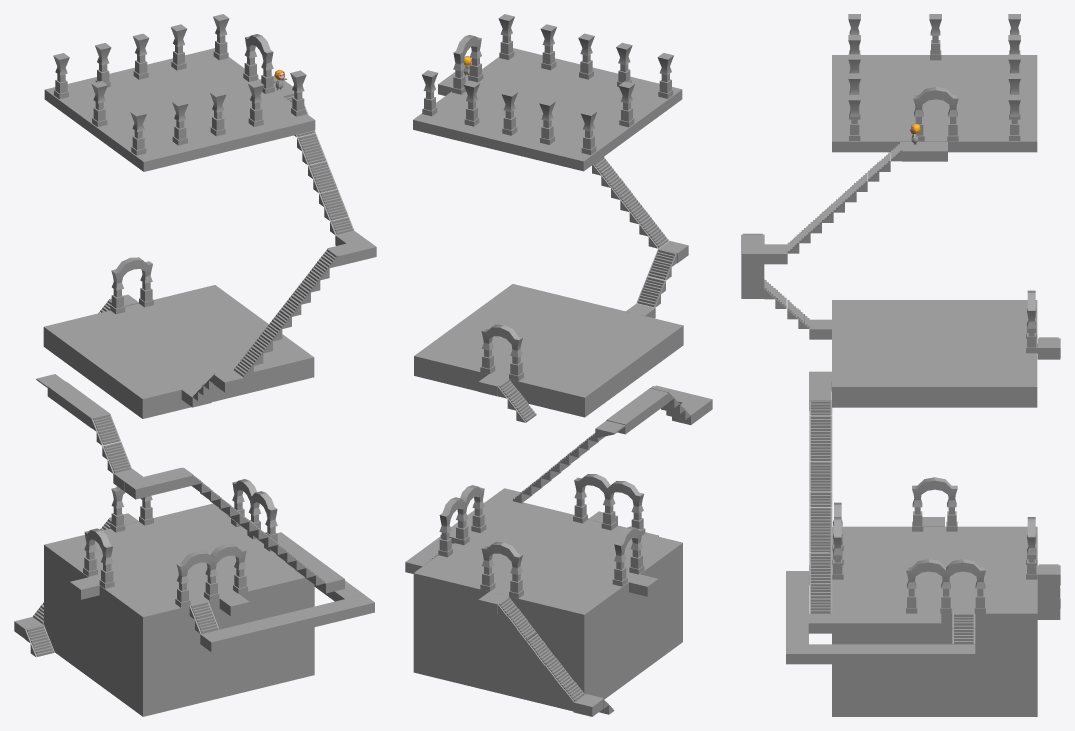
The model's file is Level_2.fbx.
The picture shows the model from 3 angles, left to right: view 1: azimuth 30°, elevation 25°; view 2: azimuth 150°, elevation 25°; view 3: azimuth 270°, elevation 25°; orthographic projection. The views are drawn at different scales.
Parts seen in each view (by area): view 1: level_1:pCube3, level_1:pCube5, level_1:pCube6, level_25:pasted__pasted__pasted__pCube2, pasted__pasted__group15_pasted__group12_pasted__pasted__pCub (×2), level_1:pasted__pCube4 (×2), pasted__group15_pasted__group12_pasted__pasted__pCube6, pasted__pasted__pasted__group15_pasted__group12_pasted__past (×2), pasted__group15_pasted__group12_pasted__pasted__pCube5, level_1:pasted__pCube6, level_1:pasted__pasted__pasted__pCube2; view 2: level_1:pCube3, level_1:pCube5, level_1:pCube6, pasted__pasted__pasted__group15_pasted__group12_pasted__past (×2), pasted__pasted__group15_pasted__group12_pasted__pasted__pCub (×2), pasted__group15_pasted__group12_pasted__pasted__pCube6, pasted__group15_pasted__group12_pasted__pasted__pCube5, level_1:pasted__pCube6, pasted__pasted__pCube6 (×2), pasted__pasted__pCube5 (×2), level_1:pasted__pasted__pasted__pCube2, level_24:pasted__pasted__pasted__pCube2 (+10 smaller); view 3: level_1:pCube3, level_1:pCube5, level_1:pCube6, level_1:pasted__pasted__pasted__pCube2 (×2), level_24:pasted__pasted__pasted__pCube2, level_25:pasted__pasted__pasted__pCube2, pasted__group15_pasted__group12_pasted__pasted__pCube5, pasted__pasted__pasted__group15_pasted__group12_pasted__past (×2), pasted__pasted__group15_pasted__group12_pasted__pasted__pCub (×2), level_1:pasted__pCube4 (×2), pasted__group15_pasted__group12_pasted__pasted__pCube6, pasted__pCube4.
Part boxes in pixels (x1,y1,x2,y2): level_1:pCube3: (44, 503, 314, 716); level_1:pCube5: (43, 285, 314, 418); level_1:pCube6: (44, 48, 315, 171); level_25:pasted__pasted__pasted__pCube2: (200, 594, 374, 652); pasted__pasted__group15_pasted__group12_pasted__pasted__pCub (×2): (110, 34, 274, 314); level_1:pasted__pCube4 (×2): (124, 239, 376, 499); pasted__group15_pasted__group12_pasted__pasted__pCube6: (175, 544, 247, 607); pasted__pasted__pasted__group15_pasted__group12_pasted__past (×2): (83, 486, 153, 588); pasted__group15_pasted__group12_pasted__pasted__pCube5: (231, 479, 277, 551); level_1:pasted__pCube6: (47, 381, 109, 428); level_1:pasted__pasted__pasted__pCube2: (277, 532, 344, 593); level_1:pCube3: (413, 501, 682, 711); level_1:pCube5: (414, 284, 683, 417); level_1:pCube6: (413, 48, 682, 171); pasted__pasted__pasted__group15_pasted__group12_pasted__past (×2): (480, 526, 644, 598); pasted__pasted__group15_pasted__group12_pasted__pasted__pCub (×2): (452, 35, 523, 381); pasted__group15_pasted__group12_pasted__pasted__pCube6: (573, 474, 645, 535); pasted__group15_pasted__group12_pasted__pasted__pCube5: (438, 485, 486, 557); level_1:pasted__pCube6: (606, 388, 668, 434); pasted__pasted__pCube6 (×2): (619, 53, 673, 127); pasted__pasted__pCube5 (×2): (501, 89, 596, 154); level_1:pasted__pasted__pasted__pCube2: (440, 488, 523, 543); level_24:pasted__pasted__pasted__pCube2: (405, 536, 440, 573); level_1:pCube3: (832, 526, 1037, 716); level_1:pCube5: (832, 300, 1037, 407); level_1:pCube6: (832, 55, 1037, 152); level_1:pasted__pasted__pasted__pCube2 (×2): (808, 142, 947, 633); level_24:pasted__pasted__pasted__pCube2: (809, 644, 975, 664); level_25:pasted__pasted__pasted__pCube2: (786, 571, 808, 664); pasted__group15_pasted__group12_pasted__pasted__pCube5: (906, 559, 985, 613); pasted__pasted__pasted__group15_pasted__group12_pasted__past (×2): (912, 477, 1037, 579); pasted__pasted__group15_pasted__group12_pasted__pasted__pCub (×2): (913, 87, 1037, 353); level_1:pasted__pCube4 (×2): (742, 235, 831, 410); pasted__group15_pasted__group12_pasted__pasted__pCube6: (832, 502, 843, 579); pasted__pCube4: (742, 244, 787, 264).
Size of the model in its own units: 12.02 by 30.24 by 13.98.
